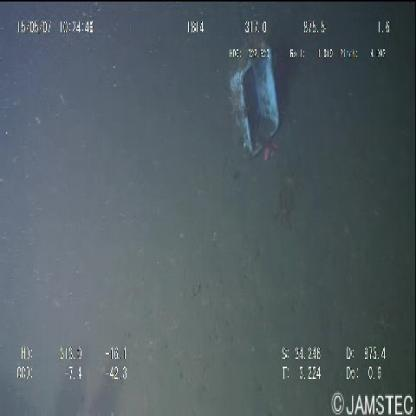Rác: (226, 38, 284, 164)
